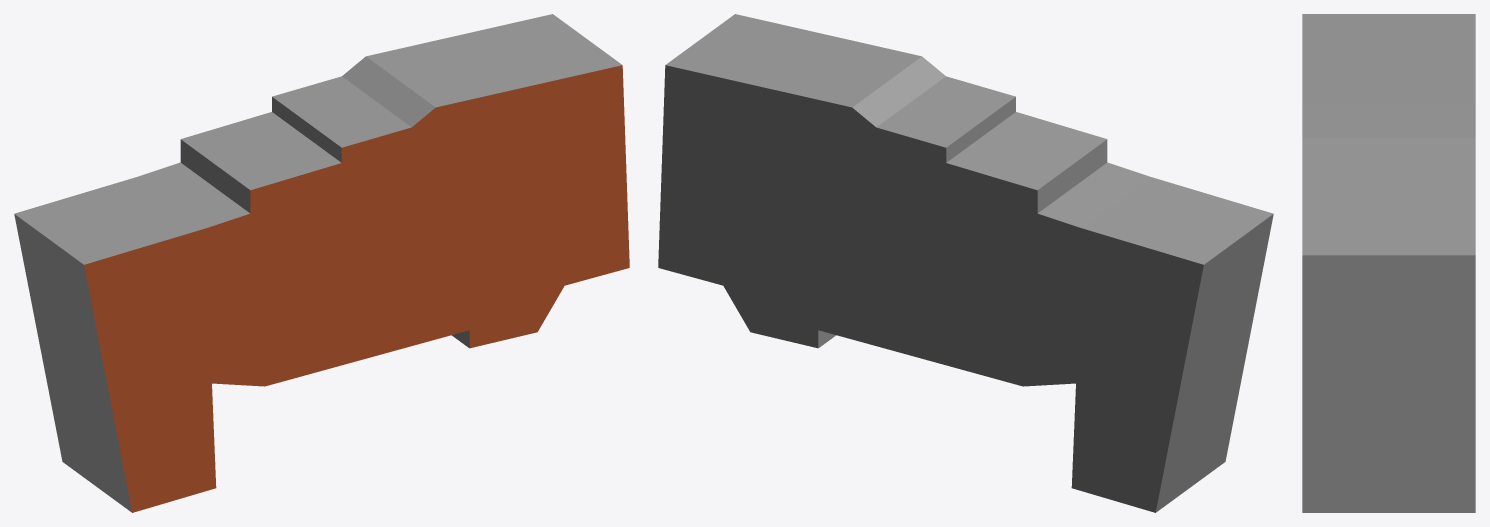
Rendered from construction_6339_assumed_A_Casa_h6m.obj.
3 renders of one model, left to right at view 1: azimuth 30°, elevation 25°; view 2: azimuth 150°, elevation 25°; view 3: azimuth 270°, elevation 25°, orthographic. The views are drawn at different scales.
Parts seen in each view (by area): view 1: construction_6339_assumed_A_Casa; view 2: construction_6339_assumed_A_Casa; view 3: construction_6339_assumed_A_Casa.
Part boxes in pixels (x1,y1,x2,y2): construction_6339_assumed_A_Casa: (14, 14, 629, 512); construction_6339_assumed_A_Casa: (658, 14, 1273, 512); construction_6339_assumed_A_Casa: (1302, 14, 1475, 512).
Size of the model in its own units: 27.06 by 15.7 by 6.
